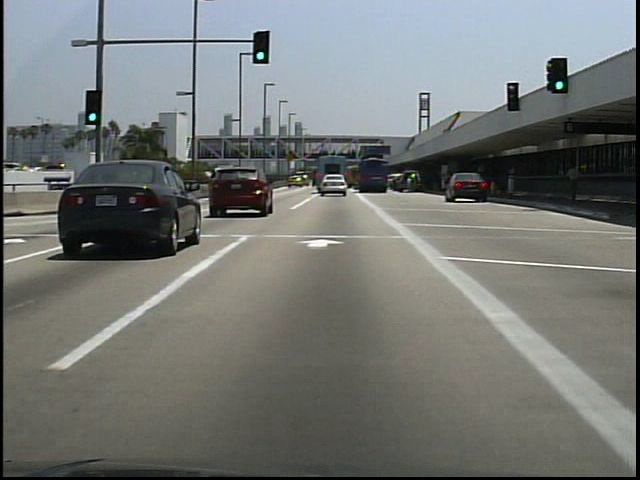person: (561, 158, 582, 206)
